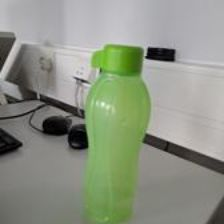bottle: (76, 43, 152, 223)
